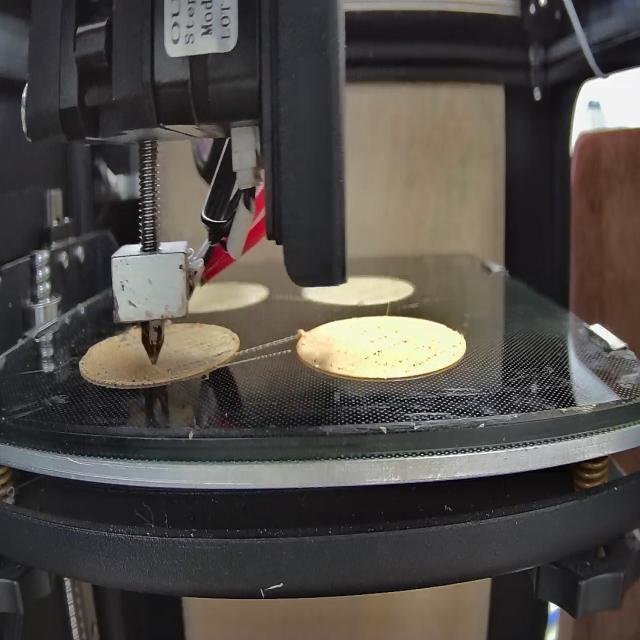under_extrusion: (363, 319, 458, 371), (80, 348, 141, 389), (176, 337, 236, 369), (308, 341, 338, 370)
